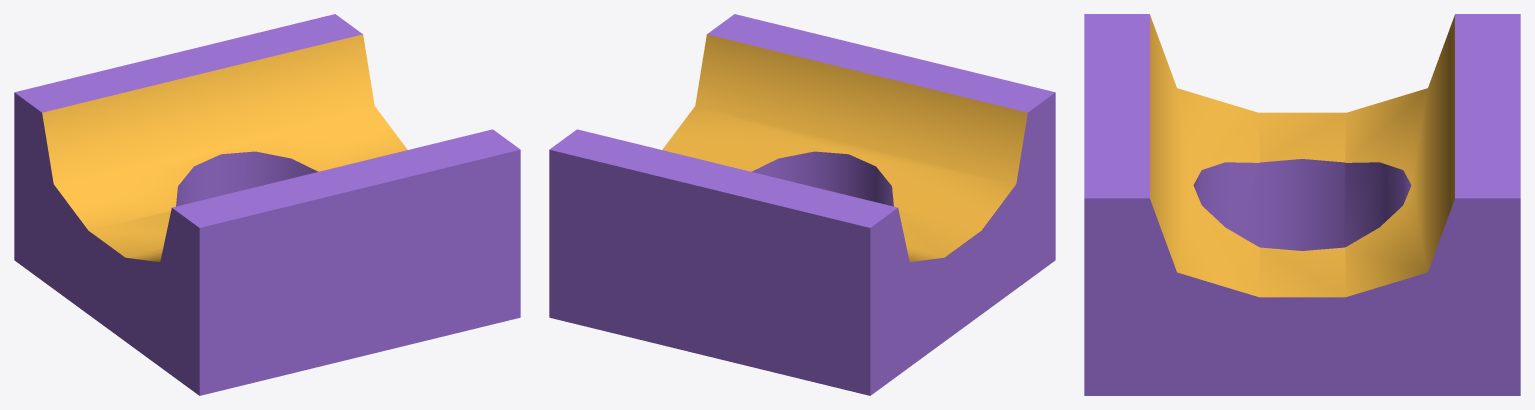
File: straight-hole-col.glb
3 renders of one model, left to right at view 1: azimuth 30°, elevation 25°; view 2: azimuth 150°, elevation 25°; view 3: azimuth 270°, elevation 25°, orthographic. The views are drawn at different scales.
Parts seen in each view (by area): view 1: straight-hole-col; view 2: straight-hole-col; view 3: straight-hole-col.
Boxes of the visible parts, bbox=[...] form: straight-hole-col: bbox=[14, 14, 520, 395]; straight-hole-col: bbox=[549, 14, 1055, 395]; straight-hole-col: bbox=[1084, 14, 1520, 395].
Size of the model in its own units: 1 by 0.5 by 1.
Materials: 1 (1 with a texture image).
